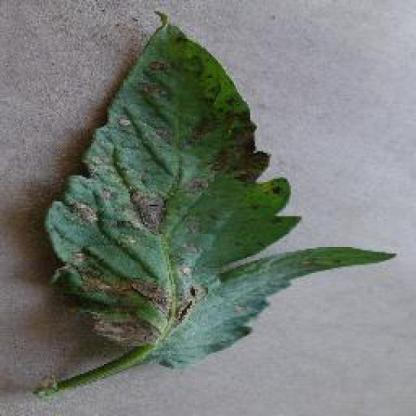Tomato_Blight: (43, 14, 397, 365)
